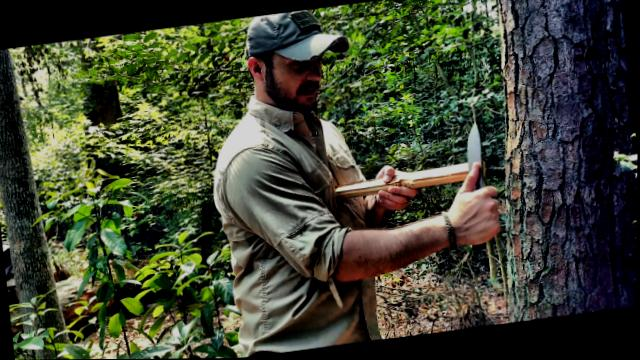knife: (449, 117, 507, 237)
